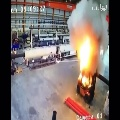fire: (78, 37, 92, 88)
